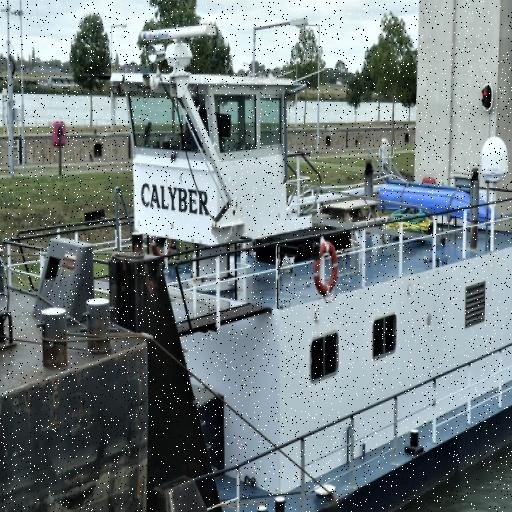tugboat: (13, 22, 512, 512)
